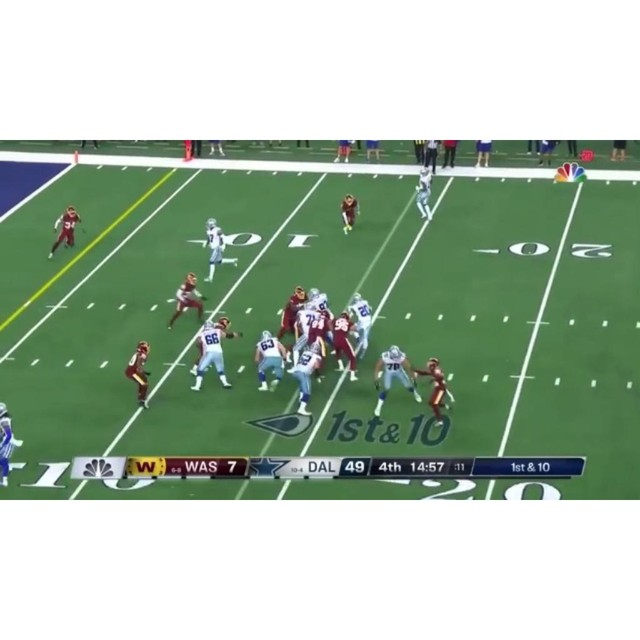american-football-player: (373, 345, 421, 417), (191, 320, 233, 392), (287, 340, 327, 415), (411, 357, 452, 427), (167, 272, 208, 330), (202, 217, 236, 283), (253, 330, 288, 392), (0, 403, 24, 488), (331, 310, 360, 380), (125, 341, 152, 409), (48, 205, 81, 259), (276, 286, 307, 342), (347, 292, 373, 358), (415, 167, 434, 219), (340, 192, 359, 234)
referee: (421, 140, 441, 175)
